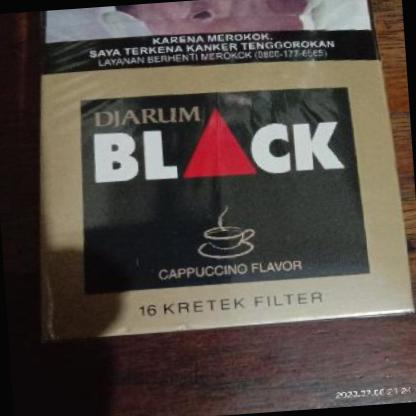objects: (22, 0, 414, 340)
